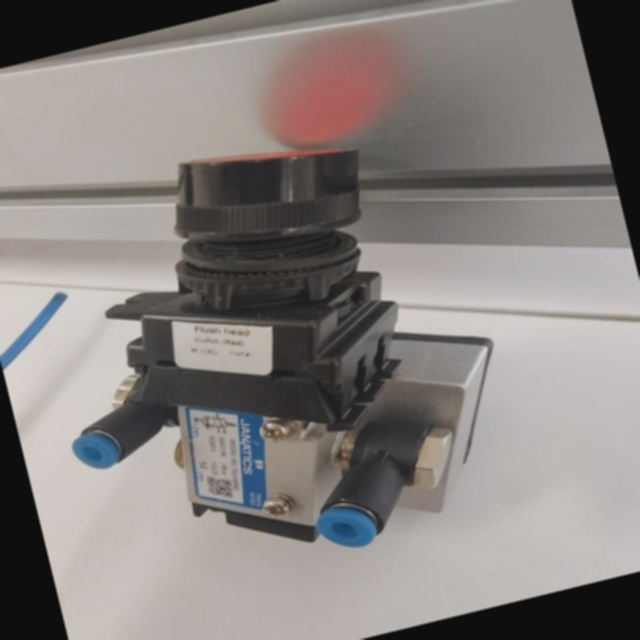push button: (12, 100, 532, 608)
